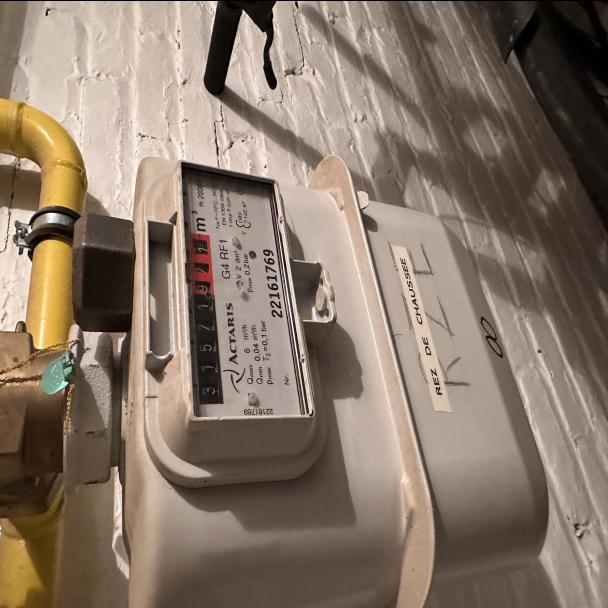1: (185, 228, 220, 256), (189, 294, 222, 316), (197, 356, 226, 378)
3: (196, 380, 226, 402)
5: (188, 340, 224, 356)
7: (186, 254, 224, 280), (188, 310, 220, 338)
9: (188, 277, 220, 297)
cm: (186, 225, 221, 293)
counter: (194, 294, 222, 404)
